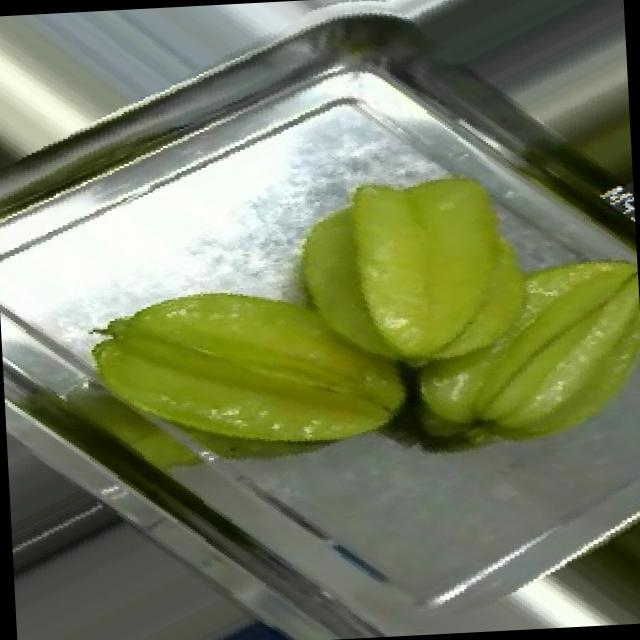fruit: (49, 204, 448, 518), (316, 137, 640, 487)
